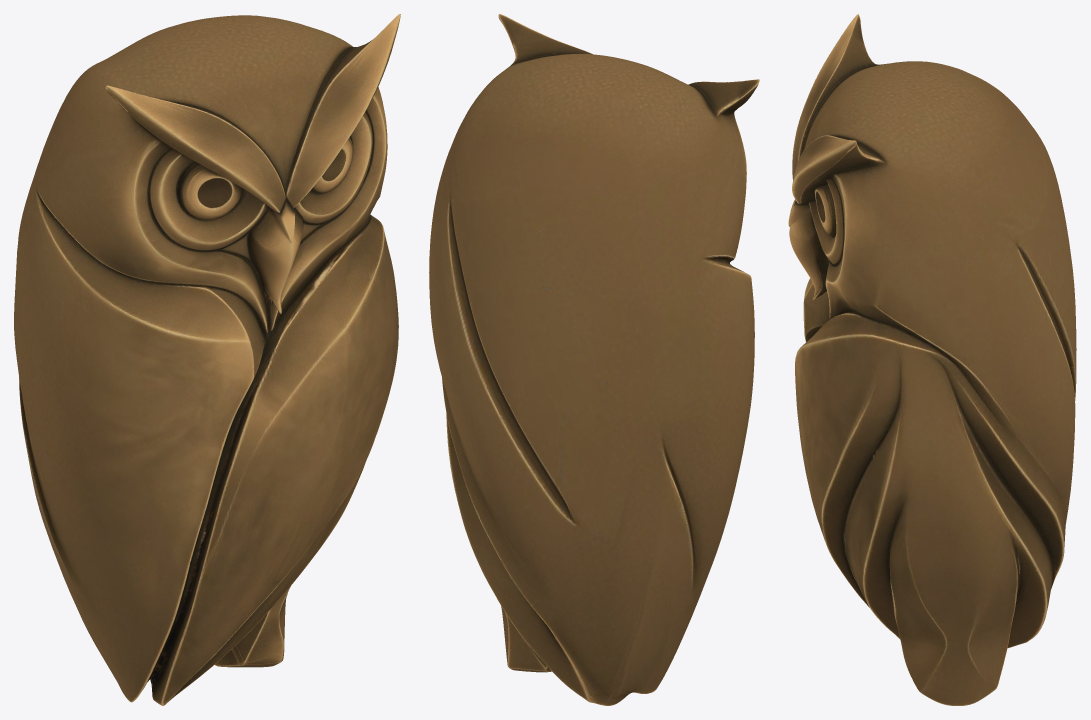
Rendered from owl-bronze.glb.
The picture shows the model from 3 angles, left to right: view 1: azimuth 30°, elevation 25°; view 2: azimuth 150°, elevation 25°; view 3: azimuth 270°, elevation 25°; orthographic projection. The views are drawn at different scales.
Parts seen in each view (by area): view 1: Mesh_0; view 2: Mesh_0; view 3: Mesh_0.
Part boxes in pixels (x1=…): Mesh_0: x1=14, y1=14, x2=400, y2=705; Mesh_0: x1=429, y1=14, x2=759, y2=705; Mesh_0: x1=788, y1=14, x2=1076, y2=705.
Bounding box in the file's own units: 0.9653 × 1.9 × 0.8246.
Materials: 1 (1 with a texture image).
